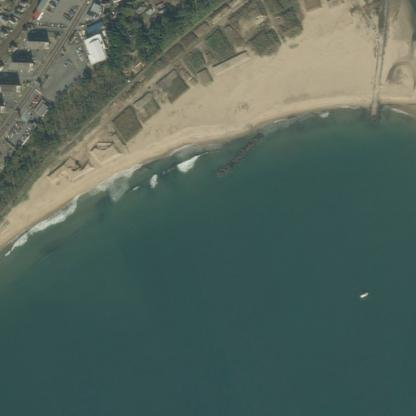ship: (359, 292, 368, 297)
